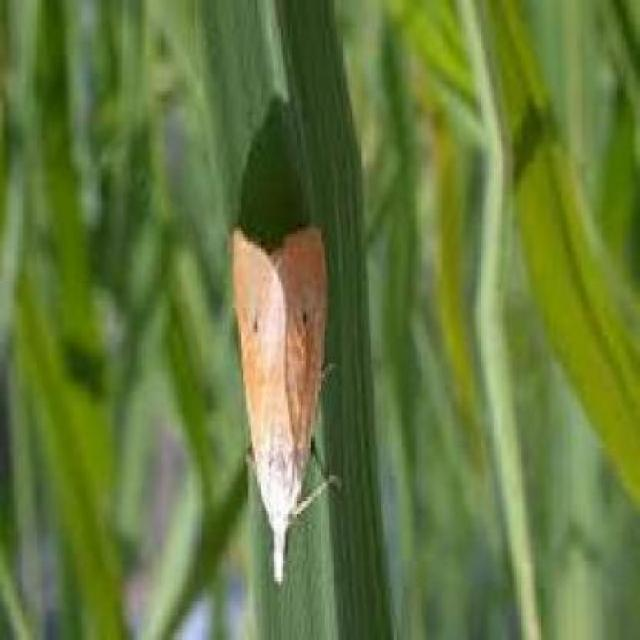stem-borer: (230, 224, 341, 584)
